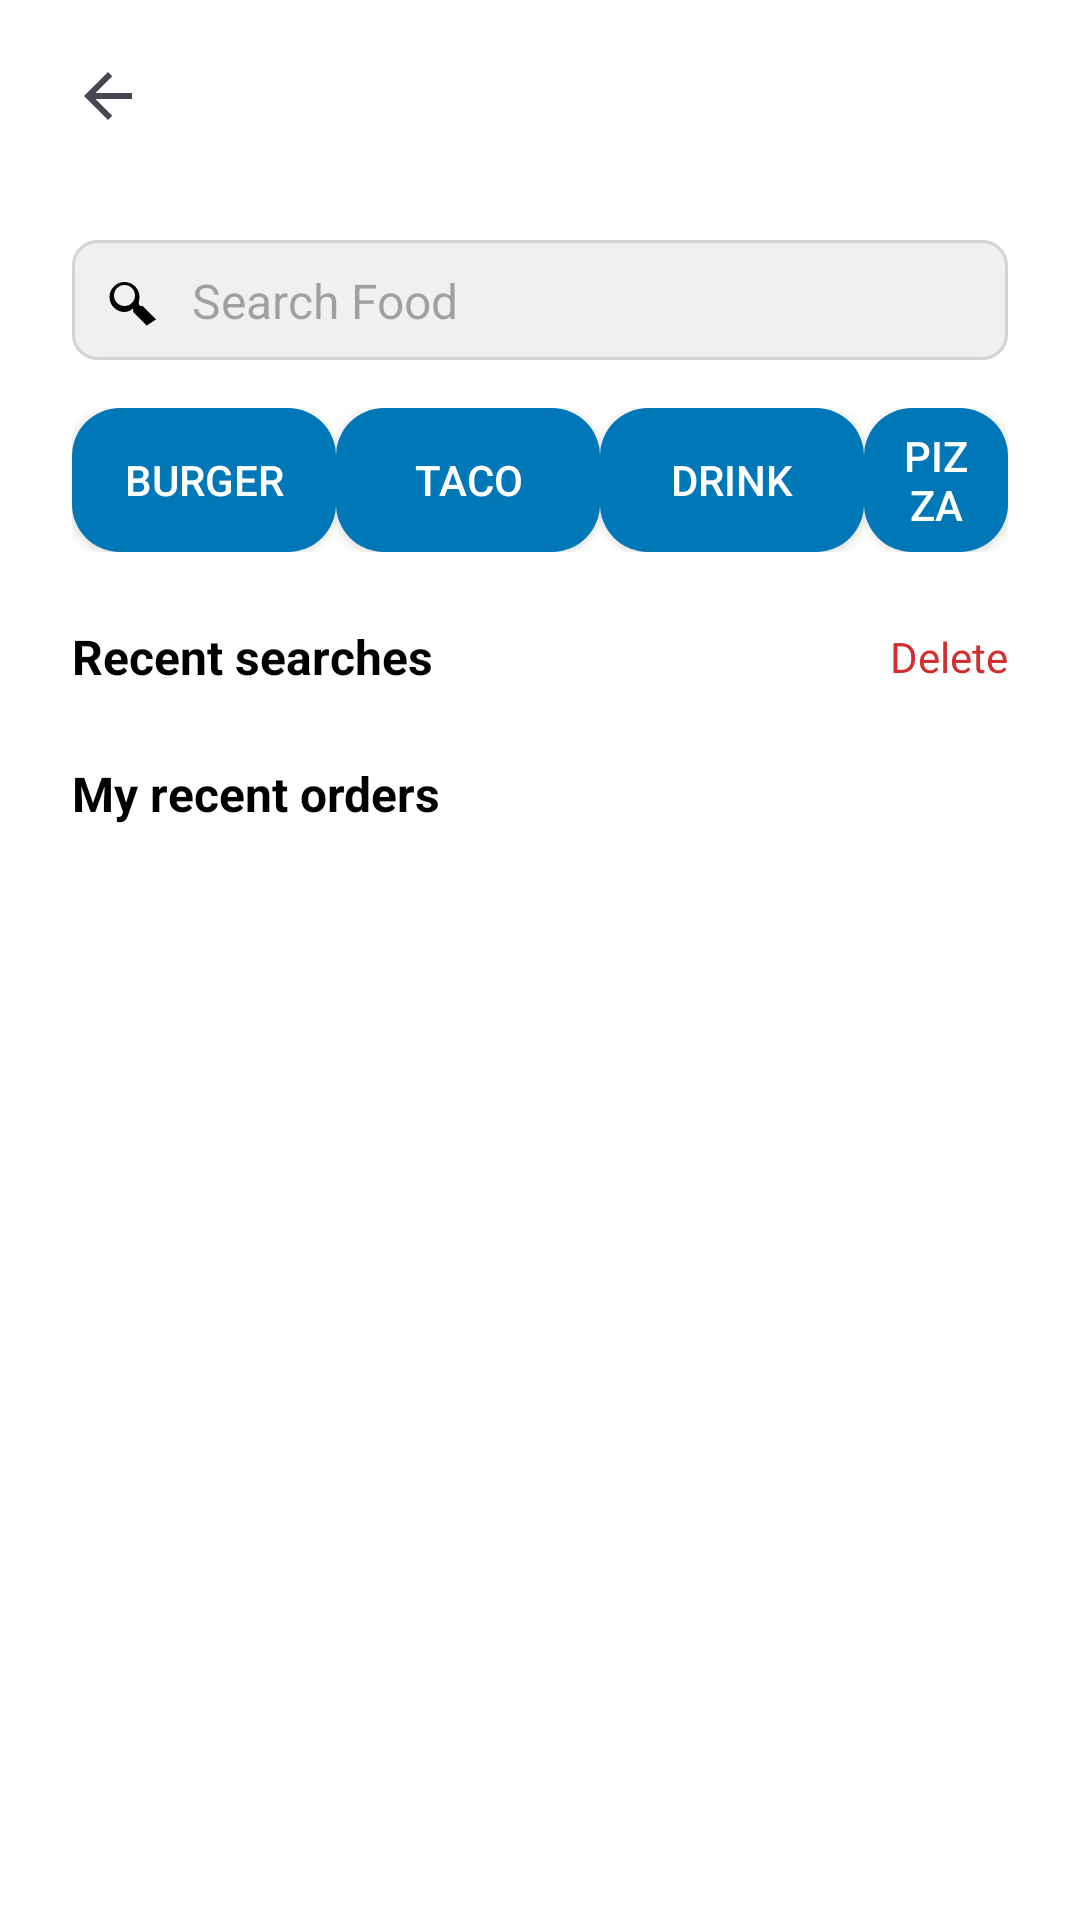

Screen size 1080×1920. Icon name, then its box in pixels as [left=x1, top=y1, right=x2, bottom=y2]:
Back: [left=84, top=72, right=132, bottom=120]
